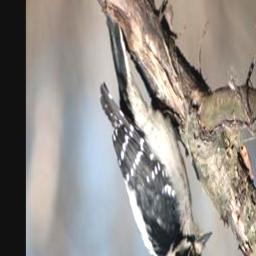Woodpecker: (99, 10, 215, 256)
